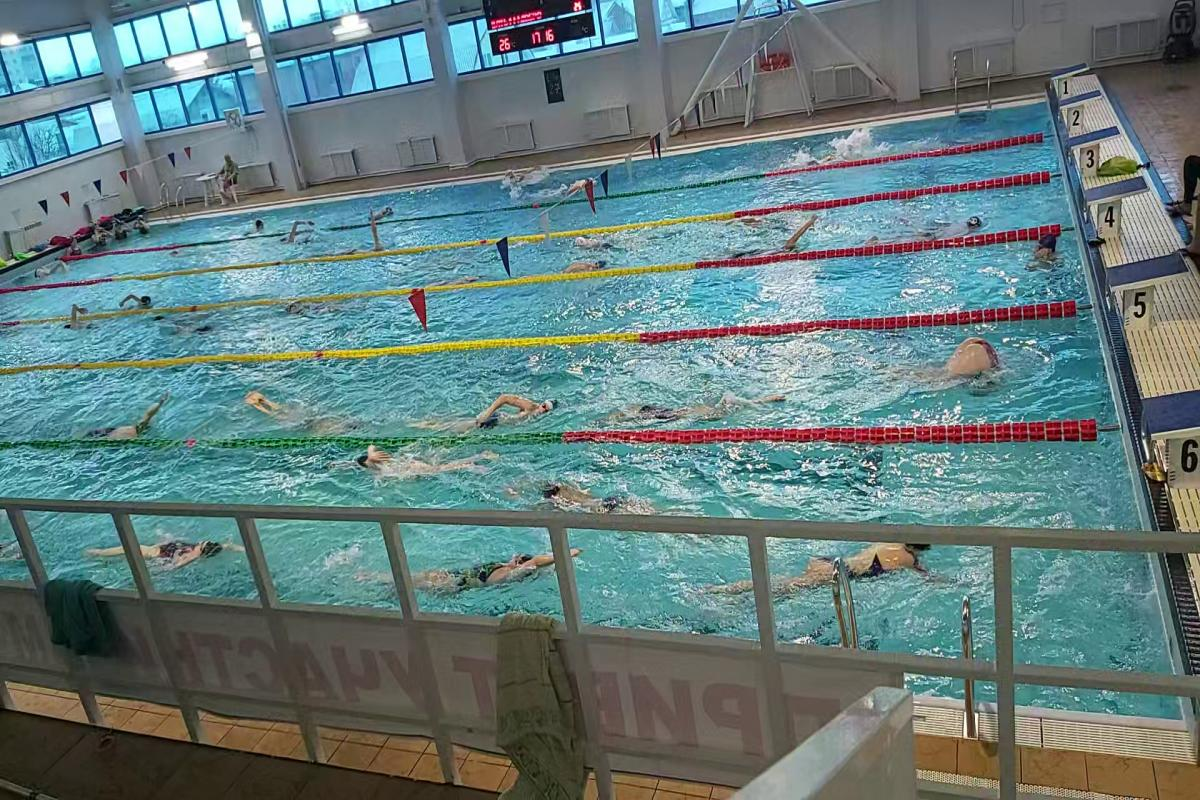swimmer: (393, 531, 583, 609), (738, 538, 942, 604), (90, 519, 241, 577), (924, 320, 1028, 404), (621, 380, 788, 427), (428, 385, 564, 431), (356, 444, 502, 486), (524, 468, 649, 514), (91, 399, 168, 440), (734, 226, 816, 254), (908, 215, 990, 235), (1032, 234, 1070, 274), (284, 300, 347, 322), (59, 305, 103, 336), (572, 233, 630, 252), (113, 289, 156, 310), (568, 257, 605, 272)
